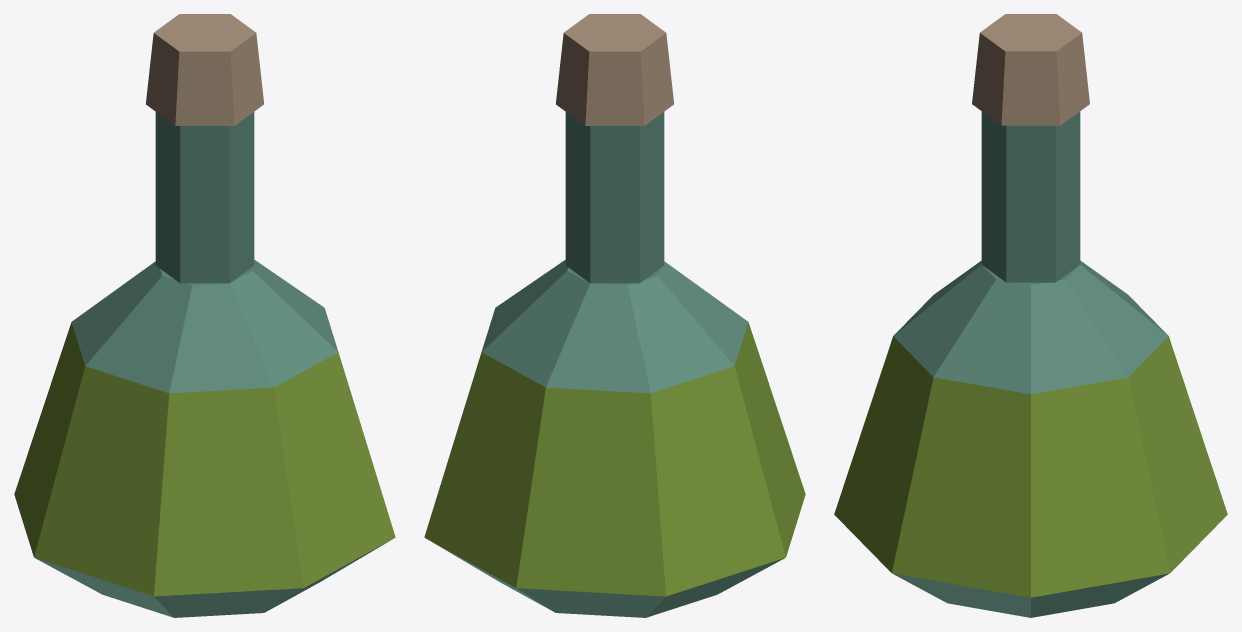
File: potion_2.glb
3 renders of one model, left to right at view 1: azimuth 30°, elevation 25°; view 2: azimuth 150°, elevation 25°; view 3: azimuth 270°, elevation 25°, orthographic.
Visible parts, largest first — view 1: Potion_2; view 2: Potion_2; view 3: Potion_2.
Boxes of the visible parts, <box> form: Potion_2: <box>14,14,395,617</box>; Potion_2: <box>424,14,805,617</box>; Potion_2: <box>834,14,1227,617</box>.
Size of the model in its own units: 0.3 by 0.45 by 0.3.
